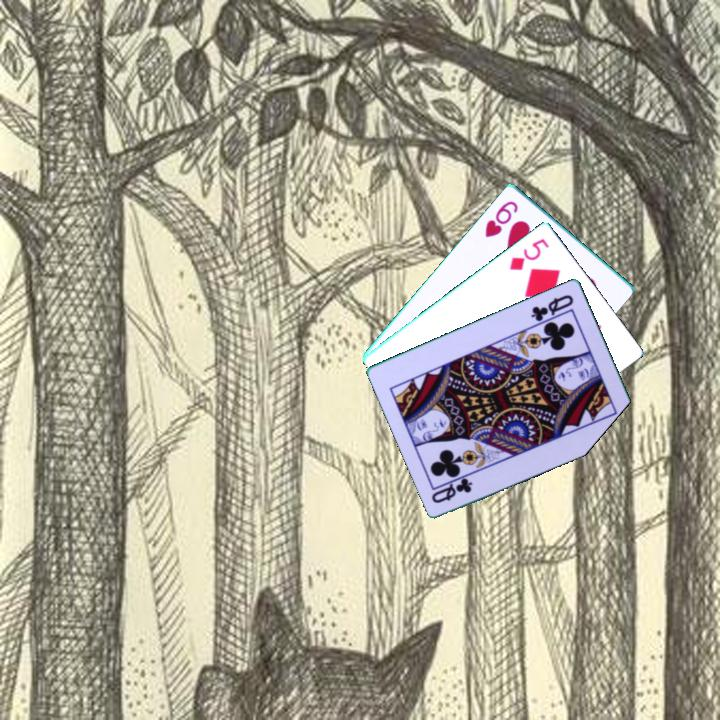5d: (506, 234, 552, 273)
6h: (481, 197, 521, 240)
Qc: (527, 290, 577, 328), (428, 474, 476, 506)
